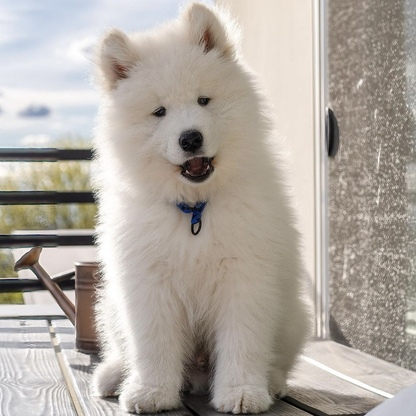samoyed: (79, 1, 318, 416)
